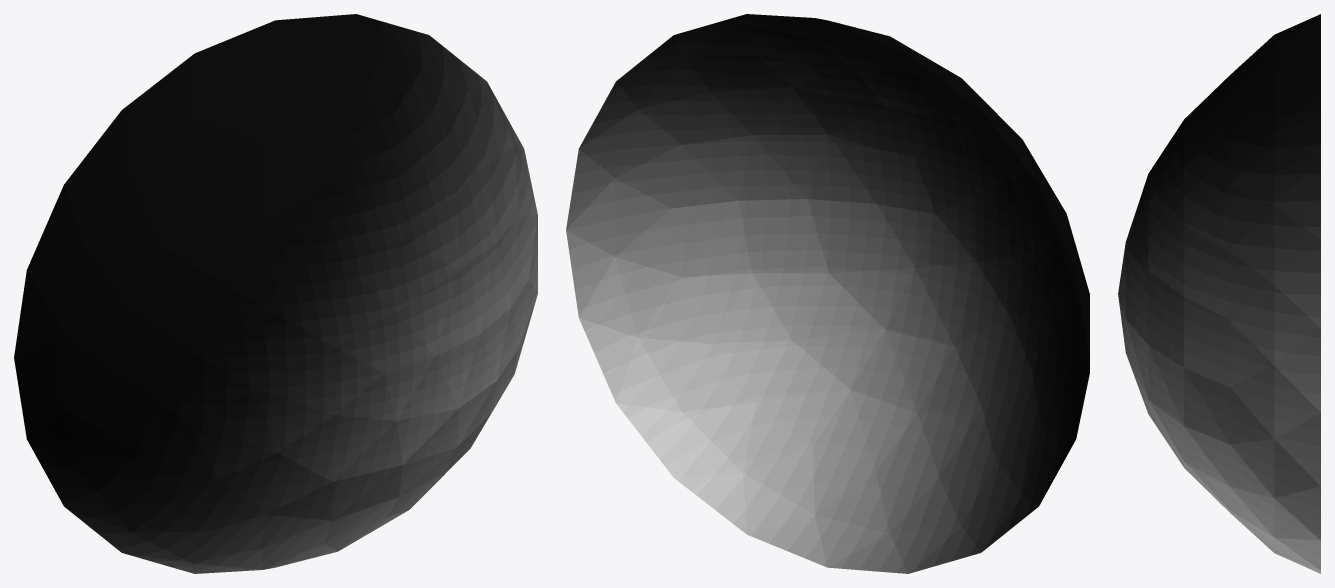
File: shiningstone.dae
3 views of the same model, side by side, from view 1: azimuth 30°, elevation 25°; view 2: azimuth 150°, elevation 25°; view 3: azimuth 270°, elevation 25° (orthographic). The views are drawn at different scales.
Visible parts, largest first — view 1: m0; view 2: m0; view 3: m0.
Boxes of the visible parts, x1,y1,x2,y2 form: m0: (14,14,537,573); m0: (566,14,1089,573); m0: (1118,14,1320,573).
Bounding box in the file's own units: 2737 × 2737 × 984.
1 material, 1 textured.
